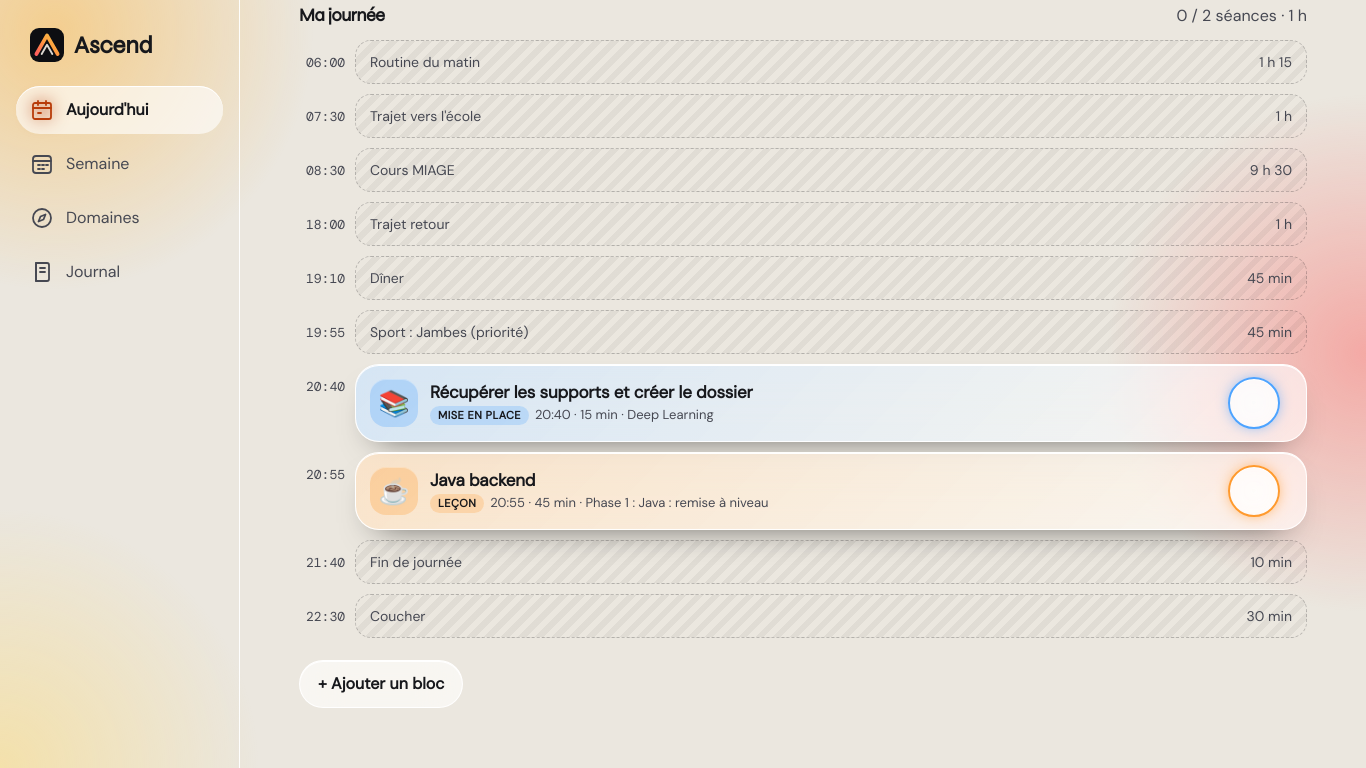
Test case: bilan de séance › terminer une séance propose un bilan ; l'enregistrer écrit le journal du jour avec la révision espacée
The image size is (1366, 768).
(page scrolled)
Click the checkbox named "Java backend" at (1254, 492), box x1=1228 y1=466 x2=1280 y2=518
(page scrolled)
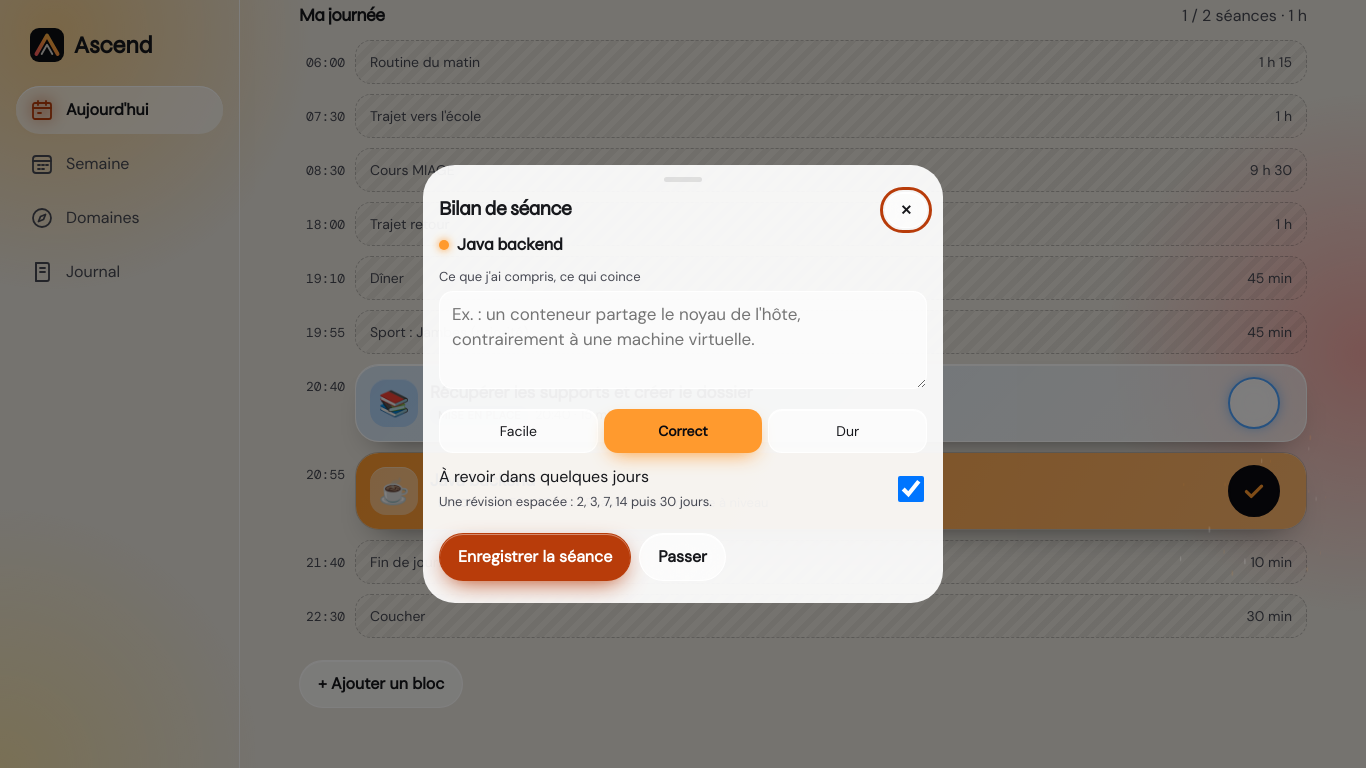
Type "Optional sert de retour" into the text box labelled "Ce que j'ai compris, ce qui coince" at (683, 340), box x1=439 y1=290 x2=927 y2=389
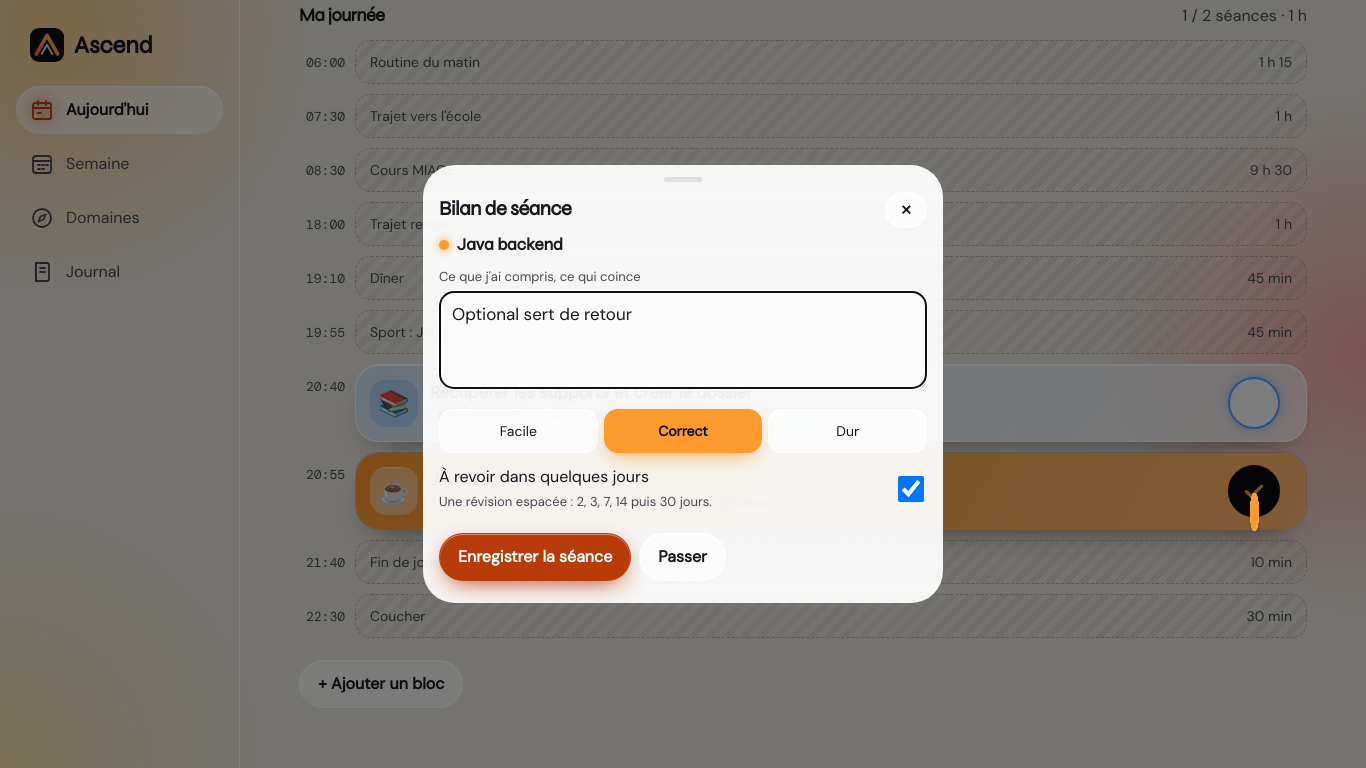
Click the radio button labelled "Dur" at (848, 431), box x1=768 y1=409 x2=927 y2=453
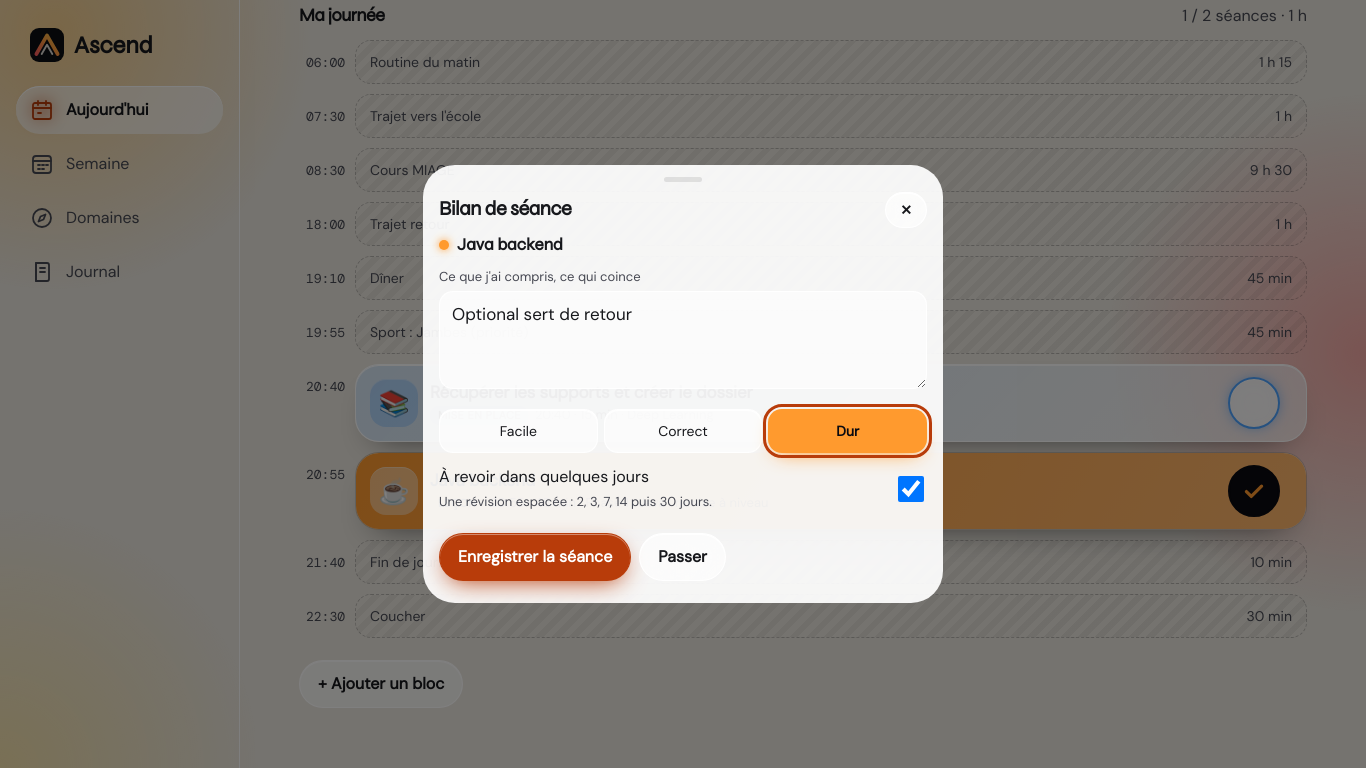
Click the button "Enregistrer la séance" at (535, 557), box x1=439 y1=533 x2=631 y2=581
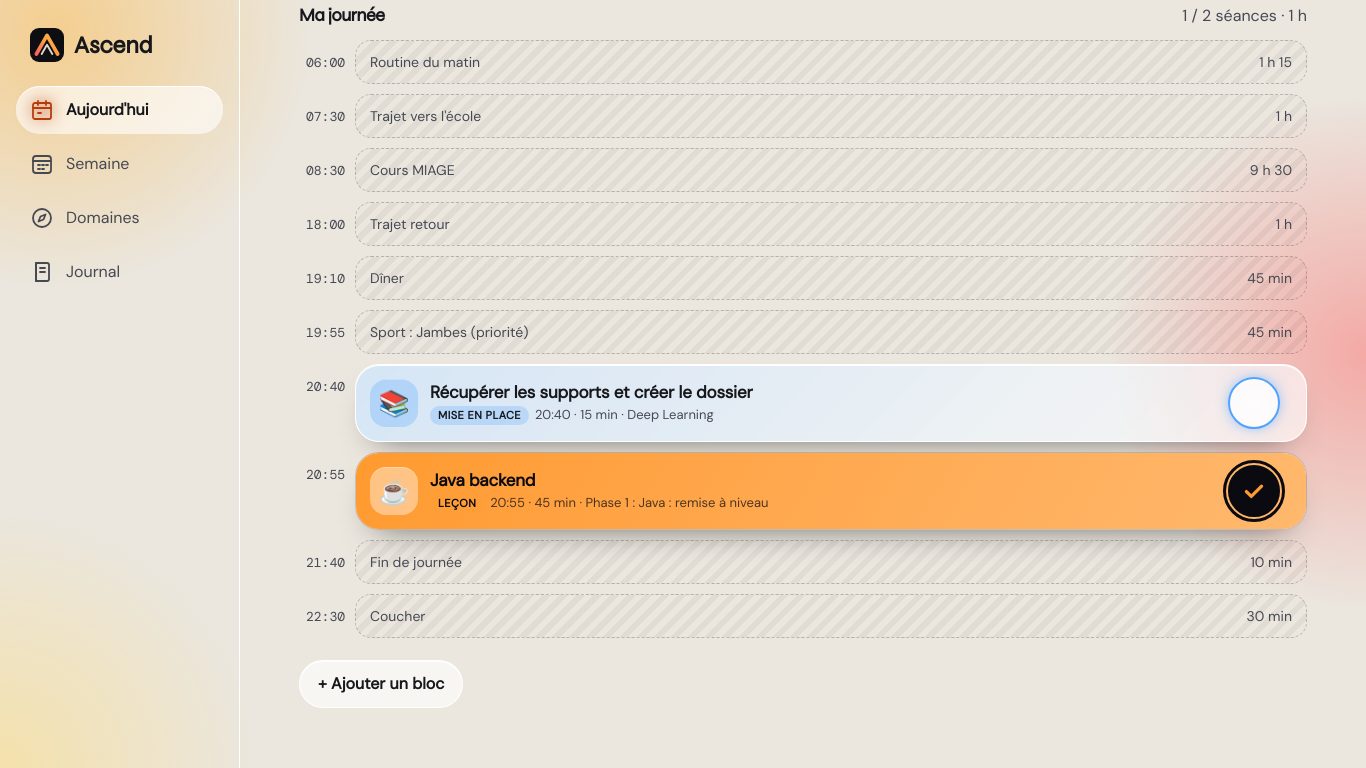
Now the heading "Bilan de séance" is gone
